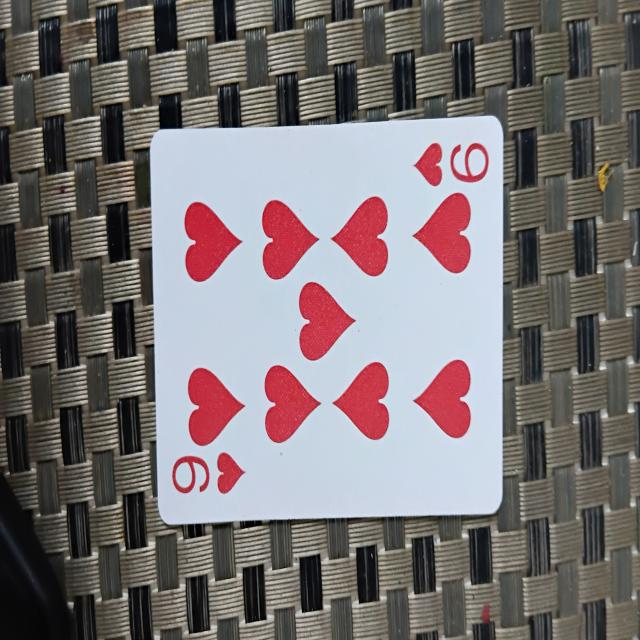9H: (148, 117, 502, 518)
